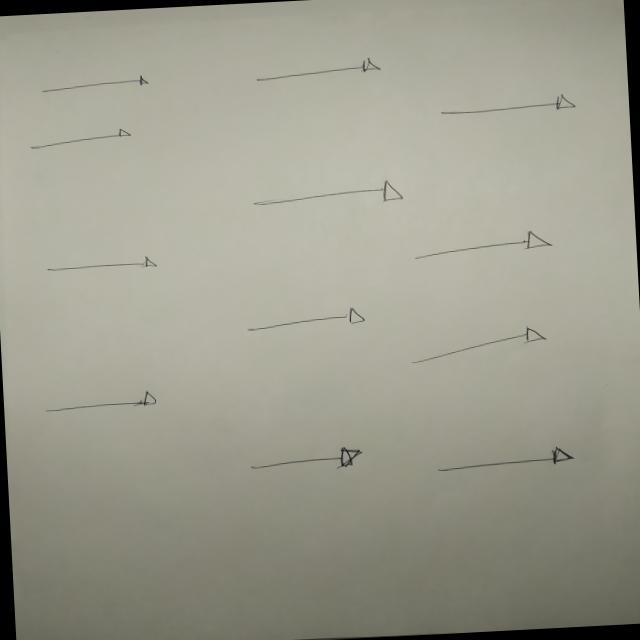arrow_line_right: (398, 223, 576, 270), (422, 436, 588, 486), (403, 318, 562, 368), (238, 176, 424, 218), (236, 432, 383, 484), (32, 384, 178, 432), (429, 84, 595, 124), (243, 52, 396, 88), (244, 300, 378, 341), (20, 122, 148, 156), (38, 250, 168, 282), (30, 70, 158, 96)
